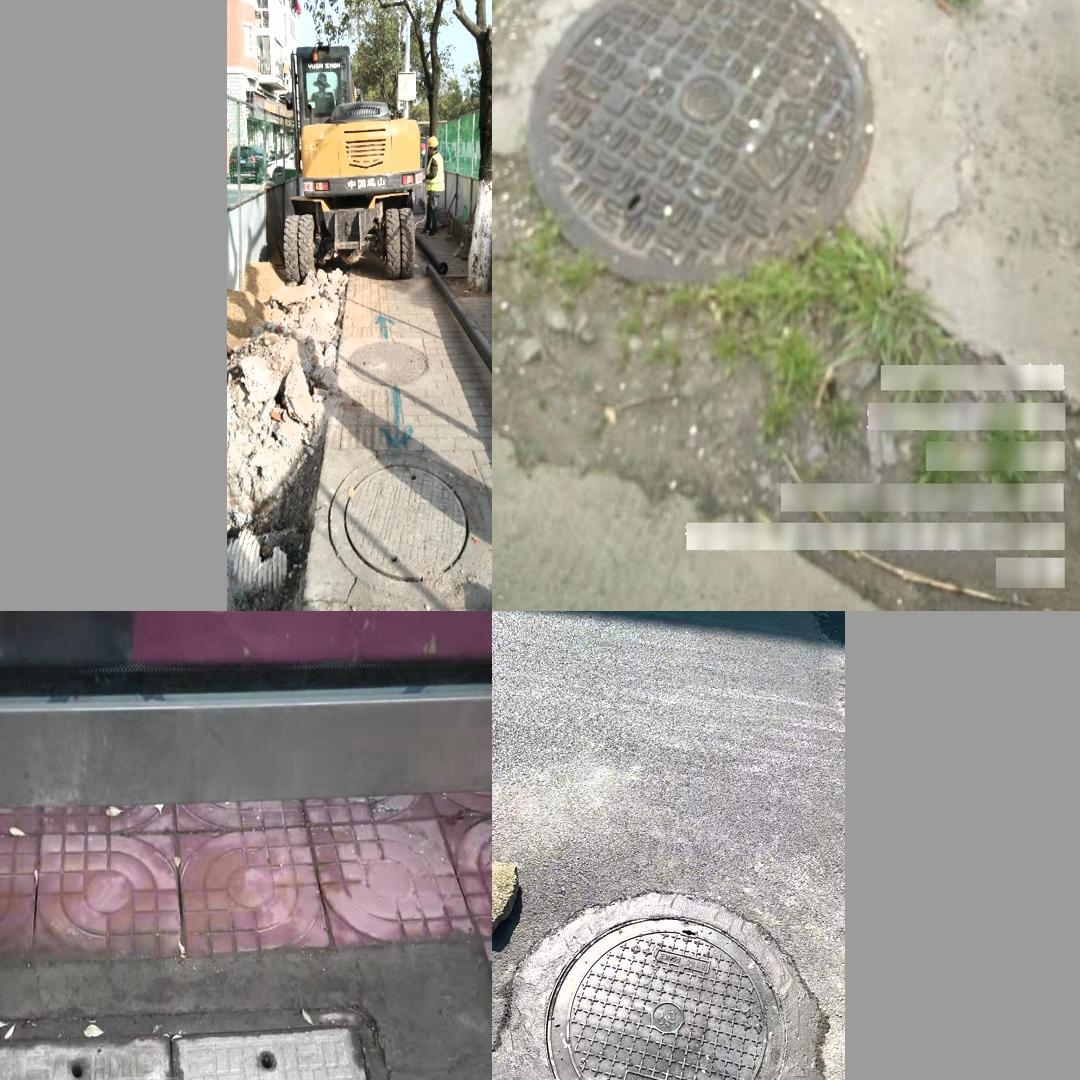good: (525, 0, 874, 286), (496, 891, 837, 1080), (0, 1006, 450, 1080), (329, 453, 485, 598), (350, 339, 430, 387)
